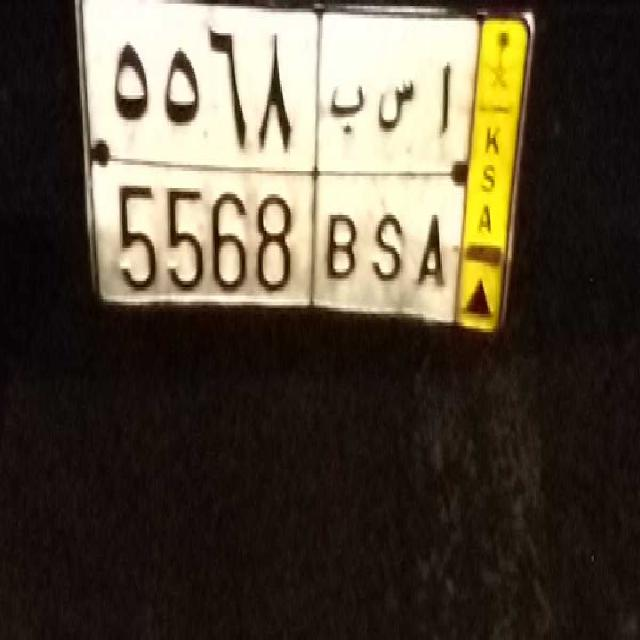license_plate: (109, 157, 456, 332)
